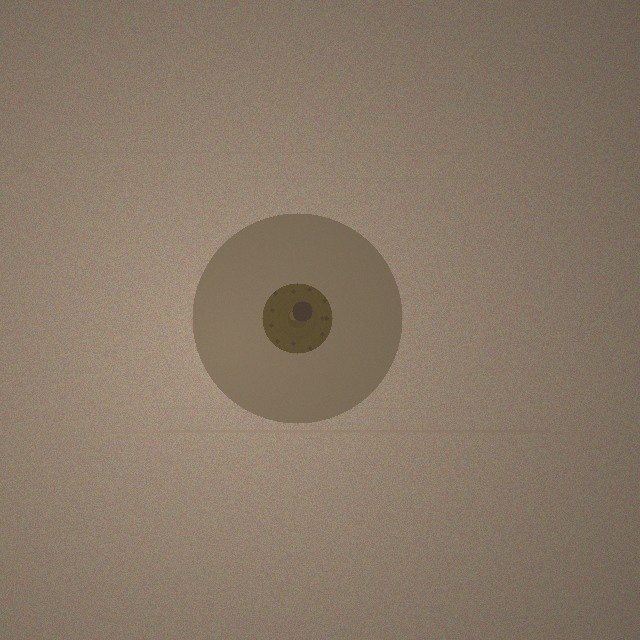cold_weld: (192, 213, 402, 423)
